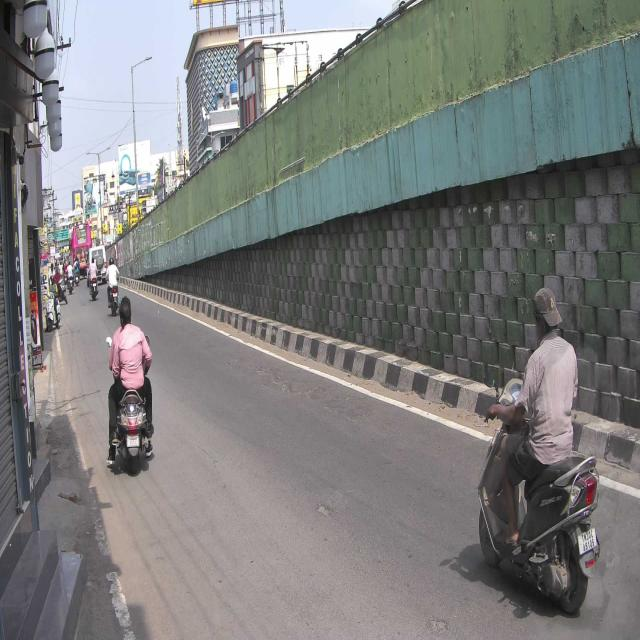single_rider: (476, 281, 603, 618)
